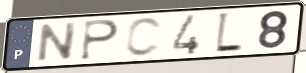4: (170, 13, 201, 56)
8: (256, 9, 291, 51)
C: (123, 15, 166, 59)
L: (213, 11, 245, 56)
N: (34, 21, 80, 64)
P: (78, 18, 122, 62)
